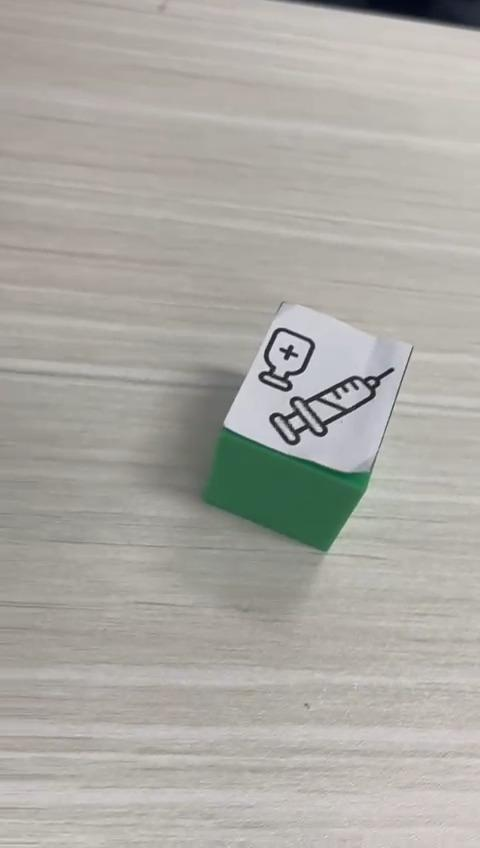antiseptic cream: (200, 299, 414, 552)
